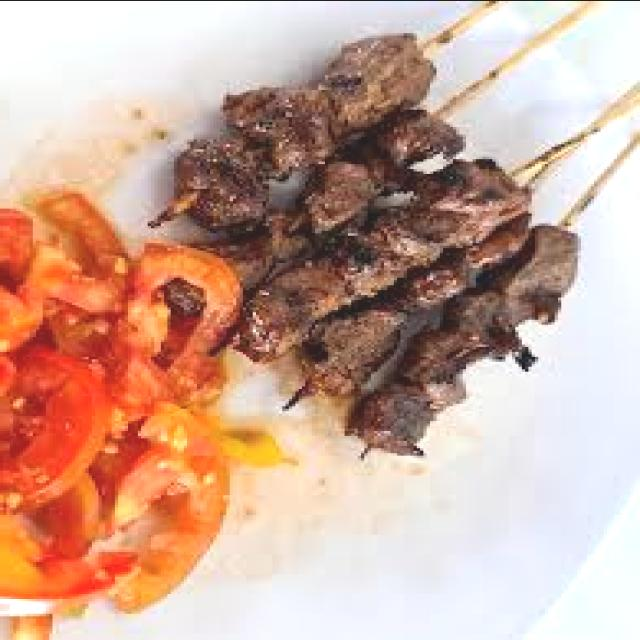sate: (148, 0, 640, 457)
